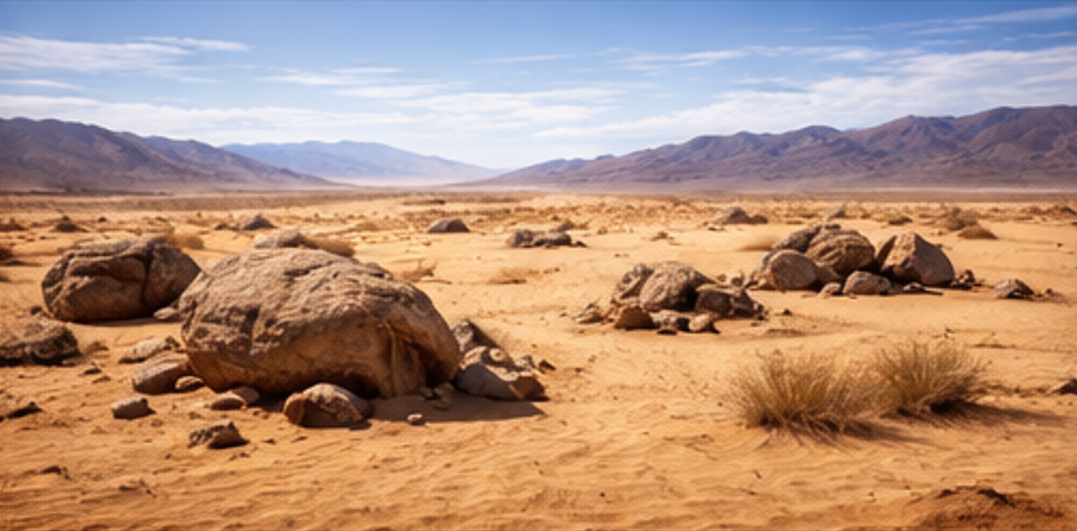rocks: (178, 250, 458, 395), (43, 237, 198, 321), (875, 231, 953, 286), (283, 382, 371, 426), (0, 317, 78, 364), (754, 250, 832, 290), (807, 228, 873, 275), (131, 352, 190, 394), (117, 336, 177, 363), (189, 419, 246, 447), (506, 228, 572, 246), (841, 271, 890, 293), (110, 395, 152, 419), (714, 206, 766, 224), (993, 277, 1034, 298), (426, 218, 469, 232)
